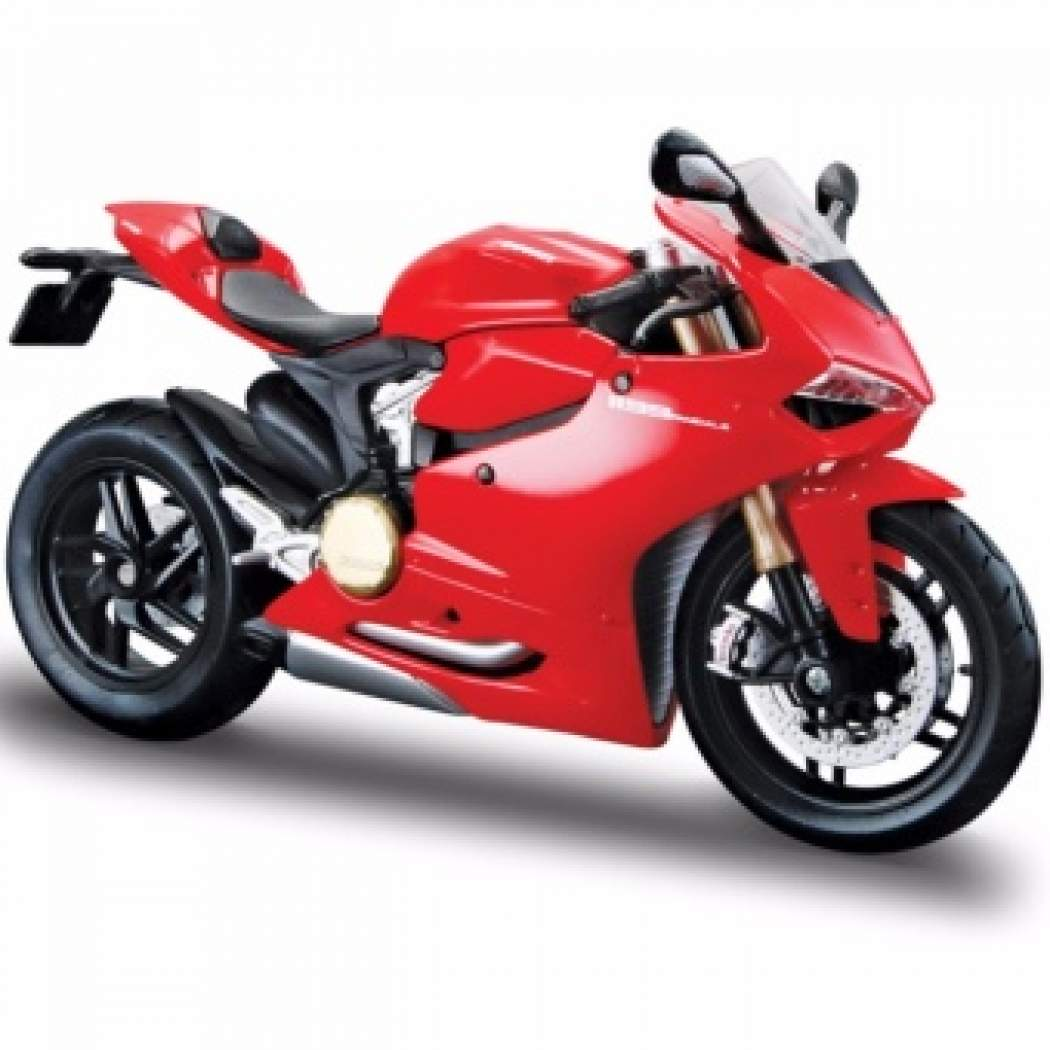motorcycle: (17, 142, 1038, 855)
